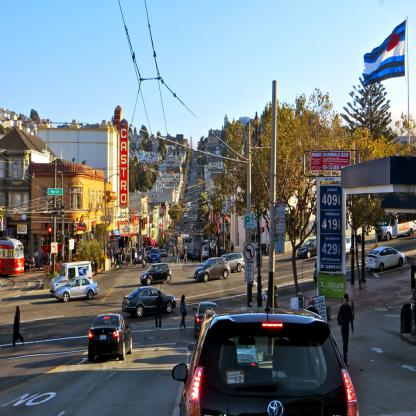Car: (172, 276, 360, 416), (133, 166, 210, 257), (87, 312, 132, 360), (120, 284, 176, 318), (54, 275, 98, 302), (365, 245, 405, 271), (193, 256, 228, 282), (138, 260, 171, 284), (297, 238, 318, 258), (221, 254, 243, 271), (345, 235, 355, 253)
